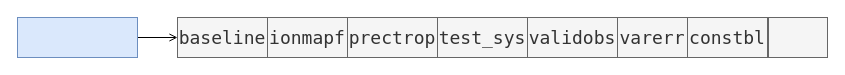
Some shapes in this 845 by 75 pixel diagram are drawn without their labels. Each missing label, with the centre of its shape:
ddcov: [798,37]
ddres: [77,37]
